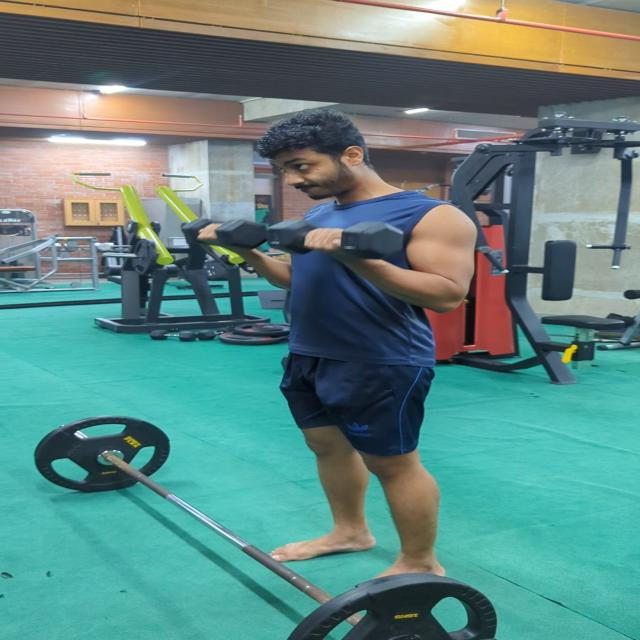Normal_DumbbellBicepCurls: (193, 106, 487, 593)
